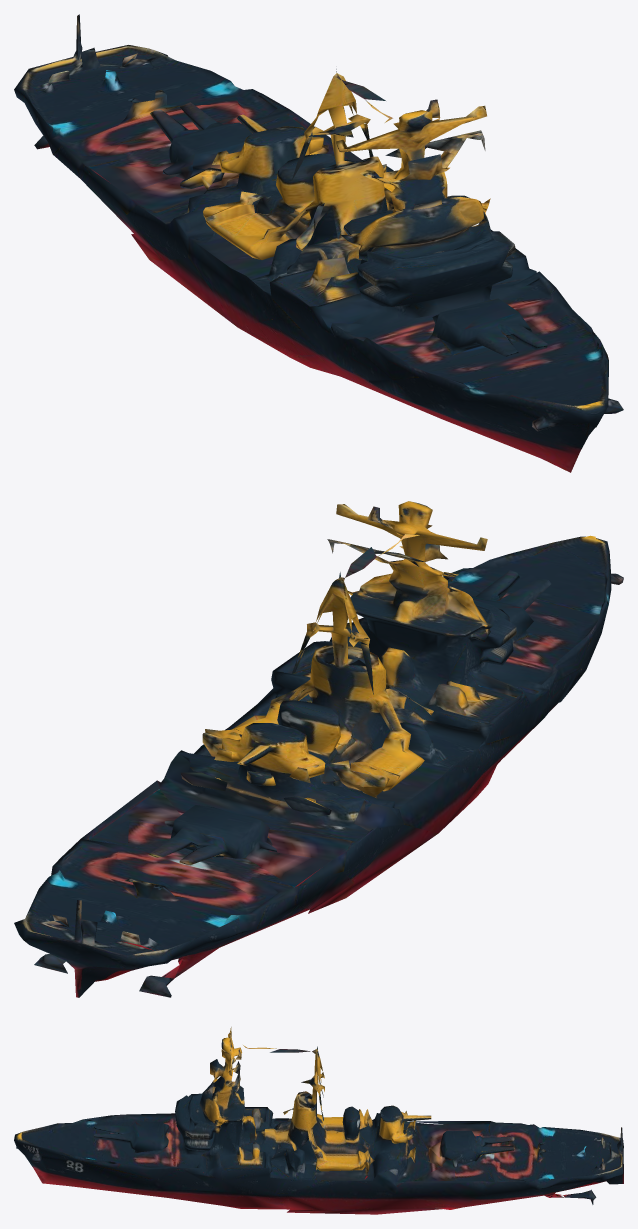
The model's file is boss.glb.
The picture shows the model from 3 angles, top to bottom: view 1: azimuth 30°, elevation 25°; view 2: azimuth 150°, elevation 25°; view 3: azimuth 270°, elevation 25°; orthographic projection. The views are drawn at different scales.
Visible parts, largest first — view 1: boss-Meshy-cleaned; view 2: boss-Meshy-cleaned; view 3: boss-Meshy-cleaned.
Boxes of the visible parts, x1,y1,x2,y2 form: boss-Meshy-cleaned: [14, 14, 623, 472]; boss-Meshy-cleaned: [14, 501, 623, 997]; boss-Meshy-cleaned: [14, 1027, 623, 1214].
Size of the model in its own units: 0.4655 by 0.5017 by 1.9.
Materials: 1 (1 with a texture image).
